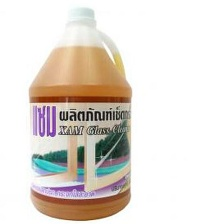cleaning_solution: (24, 2, 133, 223)
